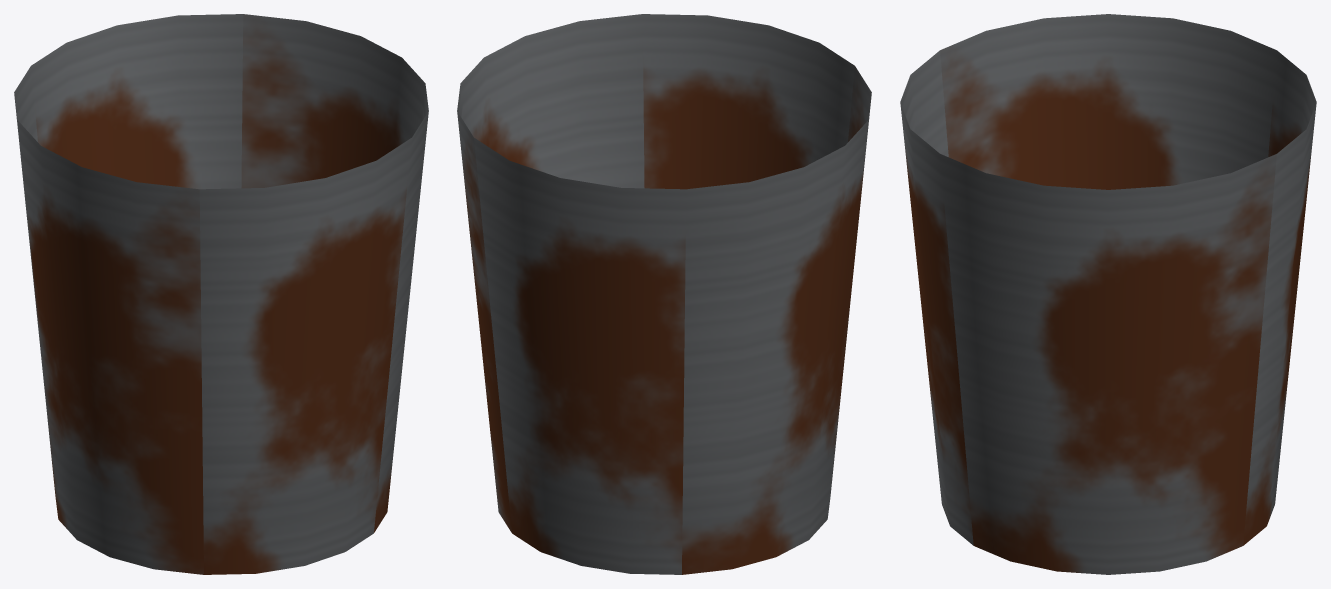
File: SM_Bucket.fbx
3 views of the same model, side by side, from view 1: azimuth 30°, elevation 25°; view 2: azimuth 150°, elevation 25°; view 3: azimuth 270°, elevation 25° (orthographic).
Visible parts, largest first — view 1: SM_Bucket; view 2: SM_Bucket; view 3: SM_Bucket.
Part boxes in pixels (x1,y1,x2,y2): SM_Bucket: [14, 14, 428, 574]; SM_Bucket: [457, 14, 871, 574]; SM_Bucket: [900, 14, 1316, 574].
Size of what is drawn, in the model's own units: 0.3 by 0.32 by 0.3.
Materials: 1 (1 with a texture image).
